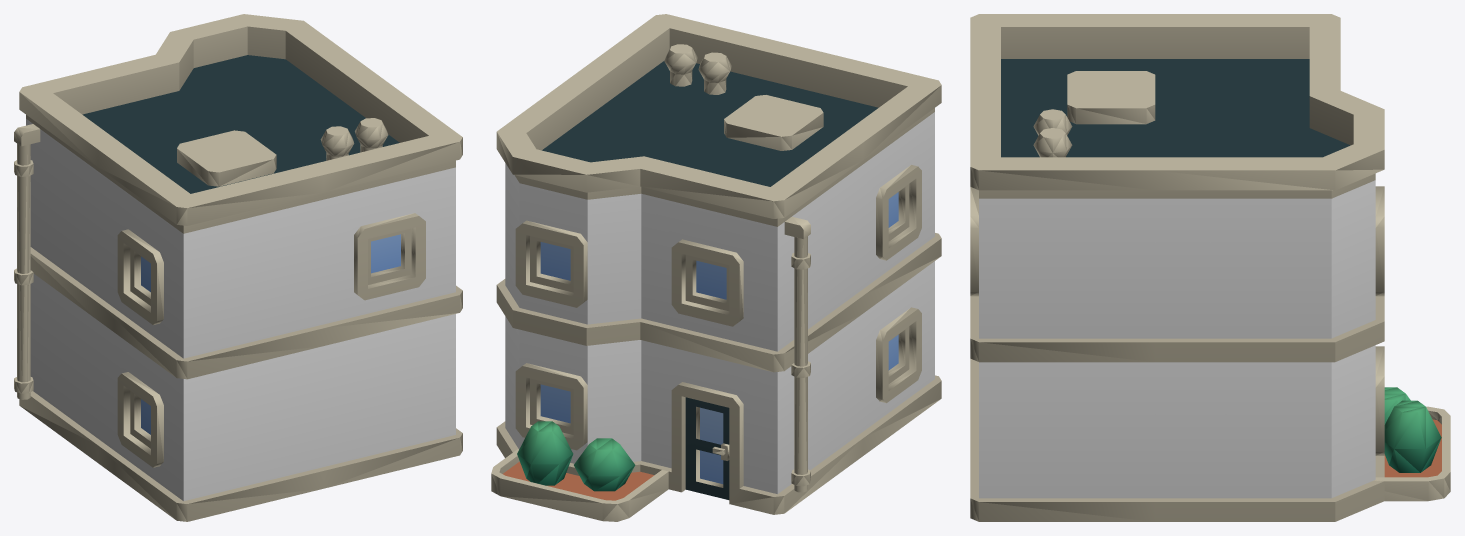
The model's file is building-c.glb.
3 renders of one model, left to right at view 1: azimuth 30°, elevation 25°; view 2: azimuth 150°, elevation 25°; view 3: azimuth 270°, elevation 25°, orthographic. The views are drawn at different scales.
Visible parts, largest first — view 1: building-c; view 2: building-c; view 3: building-c.
Part boxes in pixels (x1,y1,x2,y2): building-c: [14, 14, 462, 521]; building-c: [491, 14, 941, 521]; building-c: [970, 14, 1450, 521].
Size of the model in its own units: 8.84 by 8.93 by 10.9.
